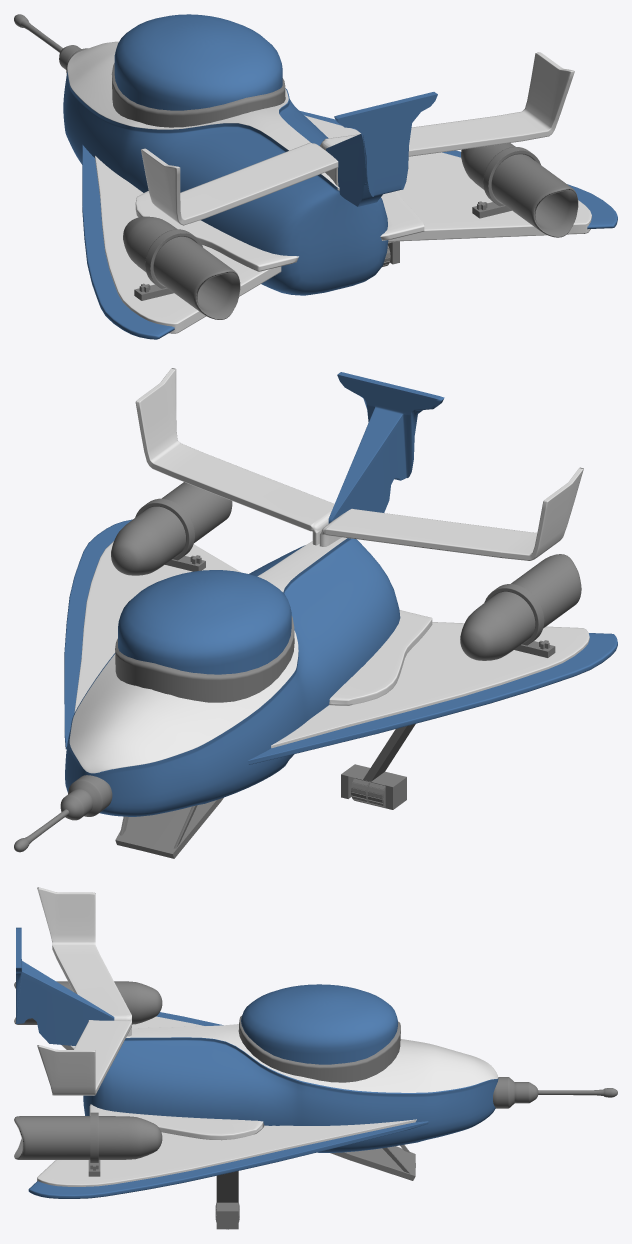
3 renders of one model, top to bottom at view 1: azimuth 30°, elevation 25°; view 2: azimuth 150°, elevation 25°; view 3: azimuth 270°, elevation 25°, orthographic. The views are drawn at different scales.
Parts seen in each view (by area): view 1: polySurface5, pCube2, pCube13, pCube9, pCylinder4, pCube11, pCube3, polySurface4, pPlane1, pCylinder3; view 2: polySurface5, pCube9, pCube2, pCube13, pCylinder4, polySurface4, pCube3, pCube11, pCylinder3, pPlane1, polySurface2, pCylinder11 (+2 smaller); view 3: polySurface5, pCube9, pCylinder4, pCube2, pCube13, polySurface4, pCube11, pCube3, pCylinder3, pPlane1, polySurface2, pCylinder11 (+3 smaller).
Boxes of the visible parts, bbox=[...] form: polySurface5: bbox=[63, 71, 388, 295]; pCube2: bbox=[95, 115, 591, 333]; pCube13: bbox=[123, 143, 578, 319]; pCube9: bbox=[141, 52, 574, 225]; pCylinder4: bbox=[114, 14, 282, 110]; pCube11: bbox=[326, 92, 437, 206]; pCube3: bbox=[82, 110, 617, 339]; polySurface4: bbox=[67, 41, 339, 190]; pPlane1: bbox=[135, 191, 424, 271]; pCylinder3: bbox=[111, 63, 285, 127]; polySurface5: bbox=[65, 538, 400, 816]; pCube9: bbox=[135, 368, 583, 560]; pCube2: bbox=[74, 541, 589, 748]; pCube13: bbox=[111, 482, 581, 660]; pCylinder4: bbox=[118, 570, 291, 674]; polySurface4: bbox=[69, 537, 347, 773]; pCube3: bbox=[64, 519, 617, 764]; pCube11: bbox=[328, 372, 444, 523]; pCylinder3: bbox=[115, 616, 294, 702]; pPlane1: bbox=[329, 610, 432, 705]; polySurface2: bbox=[115, 797, 223, 858]; pCylinder11: bbox=[341, 724, 415, 809]; polySurface5: bbox=[83, 1037, 498, 1152]; pCube9: bbox=[37, 887, 131, 1095]; pCylinder4: bbox=[241, 984, 397, 1064]; pCube2: bbox=[37, 1016, 416, 1186]; pCube13: bbox=[14, 981, 162, 1176]; polySurface4: bbox=[126, 1024, 498, 1092]; pCube11: bbox=[16, 927, 114, 1045]; pCube3: bbox=[28, 1012, 428, 1198]; pCylinder3: bbox=[238, 1016, 400, 1082]; pPlane1: bbox=[89, 1104, 264, 1140]; polySurface2: bbox=[330, 1146, 415, 1180]; pCylinder11: bbox=[215, 1171, 239, 1229].
Size of the model in its own units: 254 by 141 by 331.
